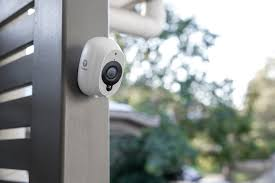Nest Cam: (63, 33, 129, 104)
